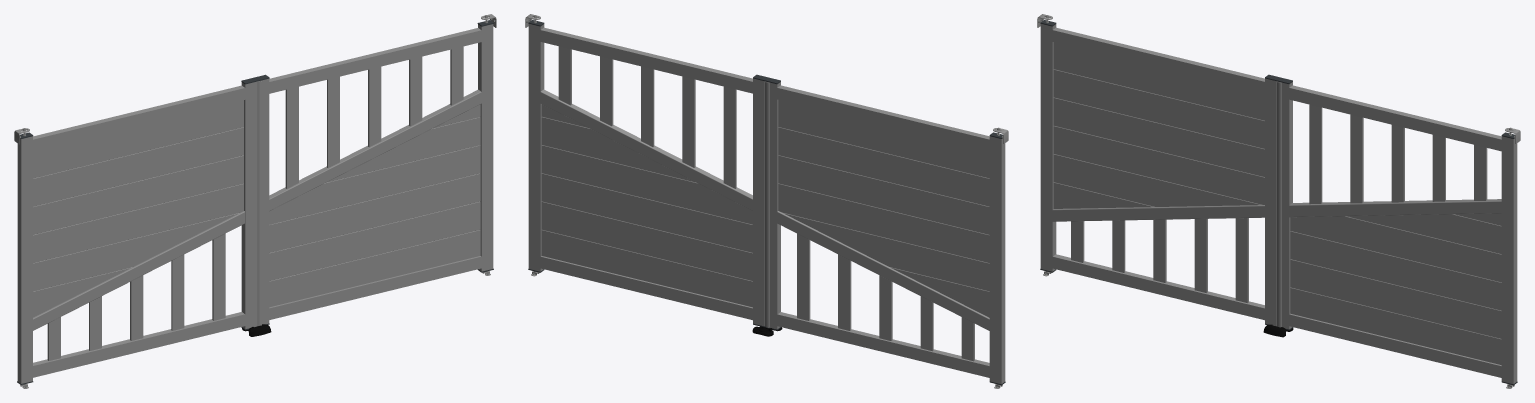
3 views of the same model, side by side, from view 1: azimuth 30°, elevation 25°; view 2: azimuth 150°, elevation 25°; view 3: azimuth 330°, elevation 25° (orthographic).
Visible parts, largest first — view 1: Rectangle072, Line046, Line056, Line057, Line048, Line049, Line050, Rectangle071, Line047, Line055, Line058, Line051 (+17 smaller); view 2: Rectangle072, Line046, Line048, Line049, Line056, Line050, Line057, Rectangle071, Line047, Line055, Line058, Line051 (+17 smaller); view 3: Rectangle072, Line048, Line056, Line057, Line049, Line050, Rectangle071, Line046, Line047, Line055, Line058, Line051 (+17 smaller).
Part boxes in pixels (<box>): Rectangle072: <box>33,28,481,151</box>; Line046: <box>33,89,481,330</box>; Line056: <box>269,173,480,252</box>; Line057: <box>269,201,480,280</box>; Line048: <box>33,127,243,206</box>; Line049: <box>33,155,243,234</box>; Line050: <box>33,183,243,262</box>; Rectangle071: <box>33,256,481,377</box>; Line047: <box>33,100,243,178</box>; Line055: <box>269,145,480,224</box>; Line058: <box>269,230,480,307</box>; Line051: <box>33,213,238,291</box>; Rectangle072: <box>540,27,989,151</box>; Line046: <box>540,89,989,330</box>; Line048: <box>778,127,989,206</box>; Line049: <box>778,155,989,234</box>; Line056: <box>541,173,752,252</box>; Line050: <box>778,183,989,262</box>; Line057: <box>541,201,752,280</box>; Rectangle071: <box>540,256,989,377</box>; Line047: <box>778,100,989,178</box>; Line055: <box>541,145,752,224</box>; Line058: <box>541,230,752,307</box>; Line051: <box>783,213,989,291</box>; Rectangle072: <box>1052,27,1501,151</box>; Line048: <box>1053,69,1264,148</box>; Line056: <box>1290,231,1501,310</box>; Line057: <box>1290,259,1501,338</box>; Line049: <box>1053,97,1264,176</box>; Line050: <box>1053,126,1264,204</box>; Rectangle071: <box>1052,254,1501,377</box>; Line046: <box>1052,199,1501,221</box>; Line047: <box>1053,42,1264,120</box>; Line055: <box>1290,216,1501,282</box>; Line058: <box>1290,287,1501,364</box>; Line051: <box>1053,154,1261,206</box>.
Bounding box in the file's own units: 3260 × 1696 × 146.
7 materials, 2 textured.
